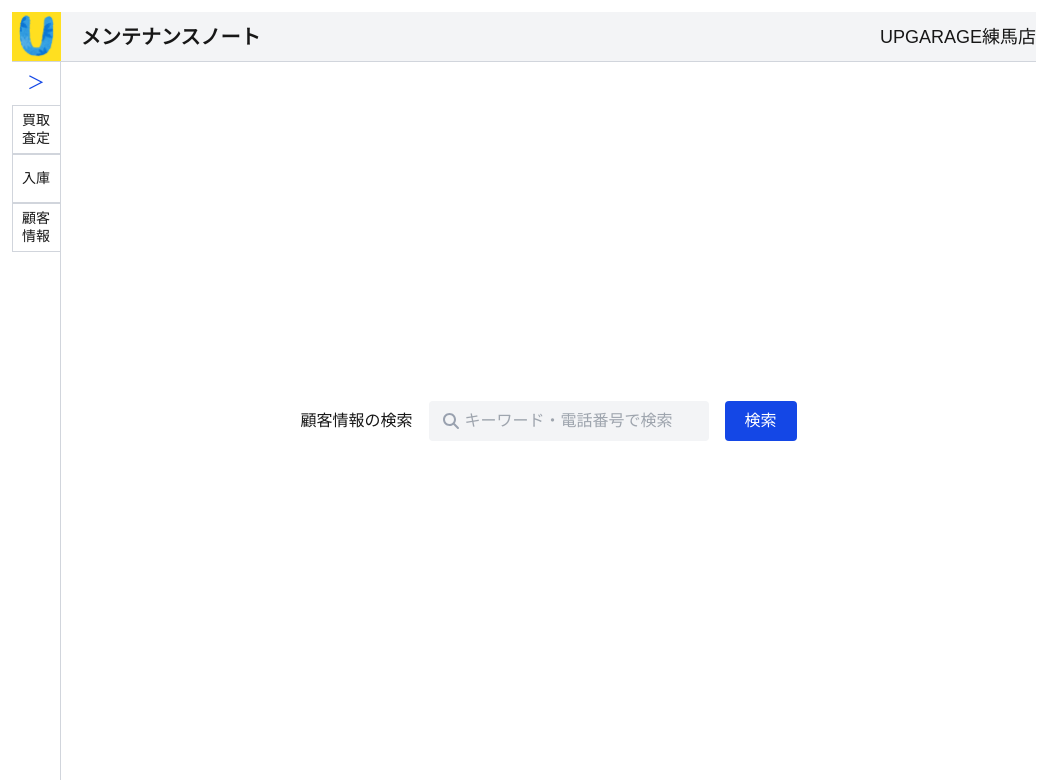
Test: UserSearchPage › サイドバーの「買取査定」に hover すると OpenSidebar が表示される
Hover over the heading "買取査定": (36, 129) left=22, top=112, right=50, bottom=146
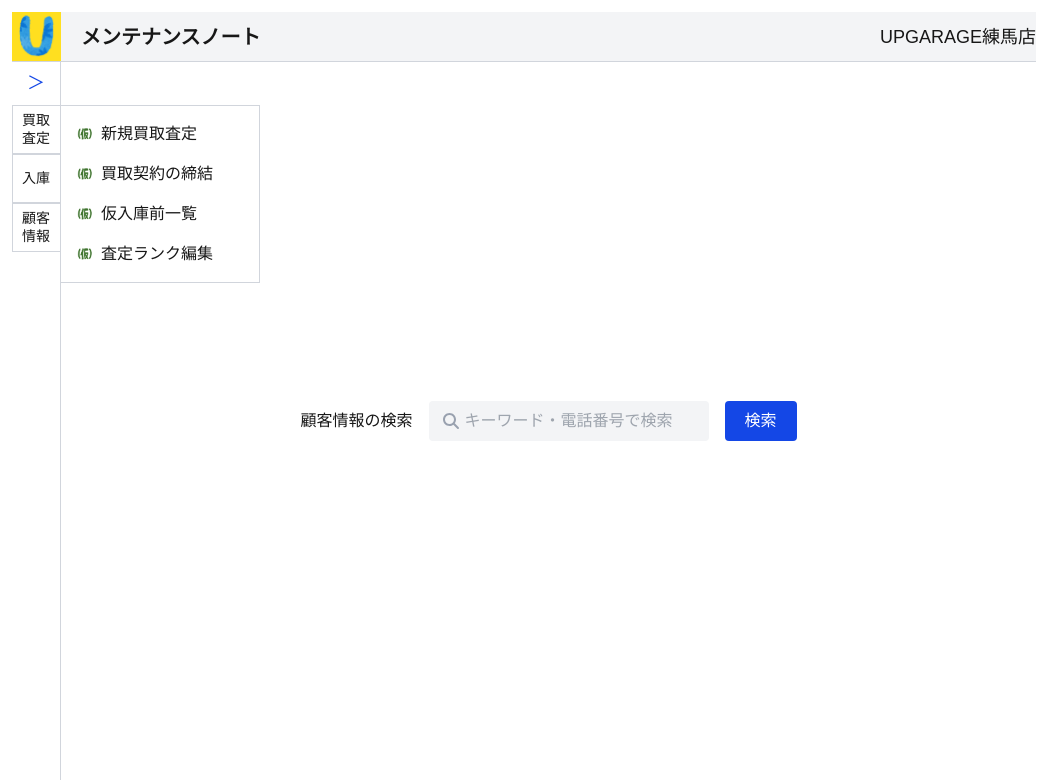
Expected: the text "新規買取査定" is shown, left=77, top=125, right=197, bottom=142
Expected: the text "買取契約の締結" is shown, left=77, top=165, right=213, bottom=182
